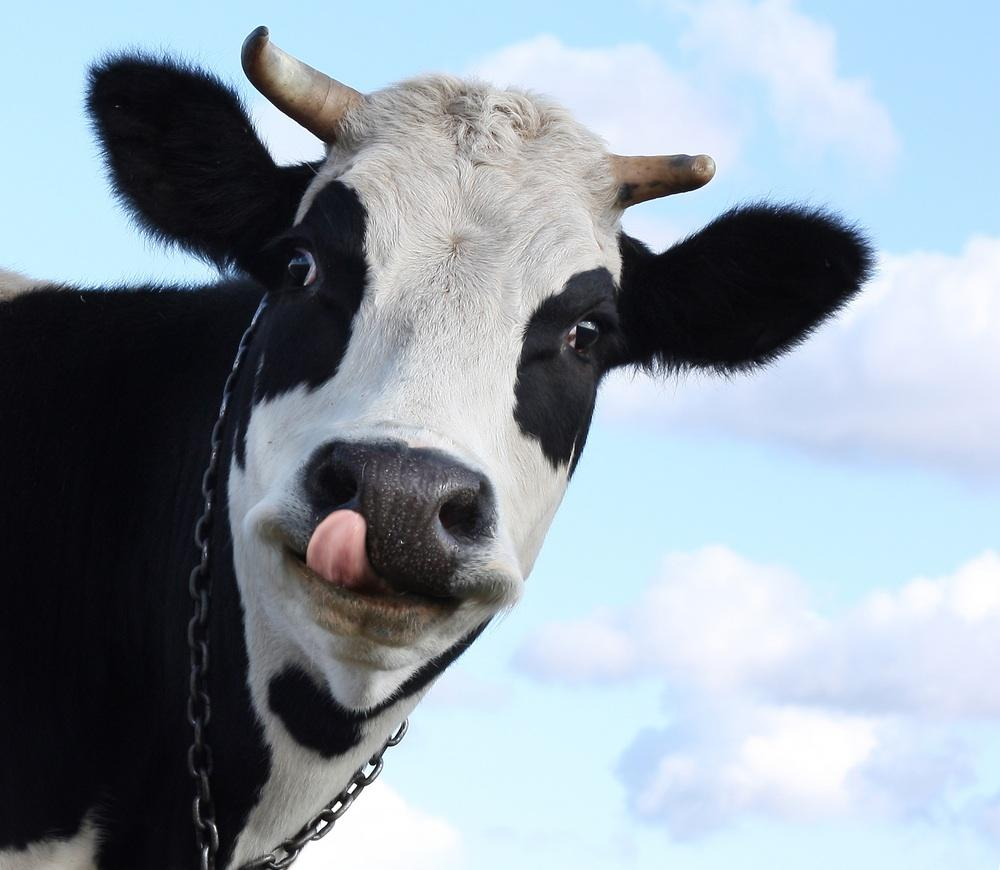muzzles: (229, 400, 552, 678)
